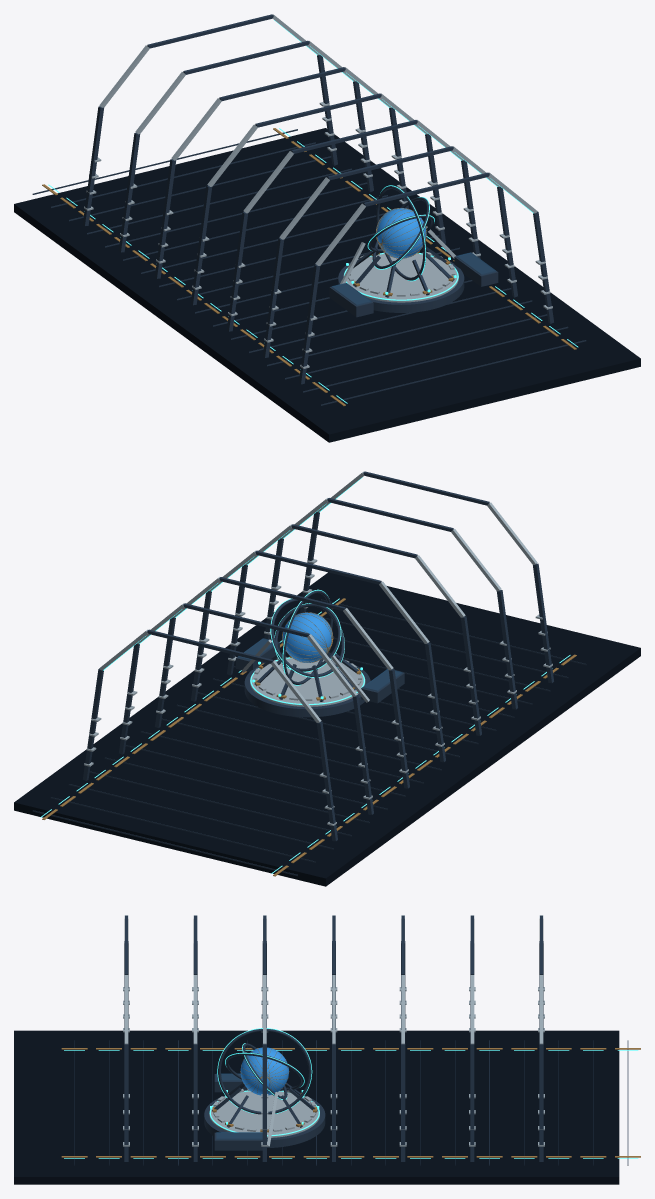
Rendered from atrium-desktop.glb.
3 views of the same model, one above another, from view 1: azimuth 30°, elevation 25°; view 2: azimuth 150°, elevation 25°; view 3: azimuth 270°, elevation 25° (orthographic). The views are drawn at different scales.
Parts seen in each view (by area): view 1: object 1, architectural-heart, celestial-heart, object 87, object 177, object 132, object 117, object 147, object 162, object 102, object 94, object 109 (+8 smaller); view 2: object 1, architectural-heart, celestial-heart, object 177, object 132, object 87, object 162, object 102, object 117, object 147, object 184, object 169 (+10 smaller); view 3: object 1, architectural-heart, celestial-heart, object 94, object 184, object 109, object 124, object 154, object 169, object 139.
Part boxes in pixels (bbox=[...]): object 1: bbox=[14, 128, 640, 442]; architectural-heart: bbox=[329, 185, 498, 317]; celestial-heart: bbox=[376, 208, 426, 258]; object 87: bbox=[299, 264, 320, 384]; object 177: bbox=[82, 106, 103, 225]; object 132: bbox=[191, 185, 212, 305]; object 117: bbox=[227, 212, 248, 331]; object 147: bbox=[155, 159, 176, 278]; object 162: bbox=[119, 132, 140, 252]; object 102: bbox=[263, 238, 284, 357]; object 94: bbox=[533, 211, 553, 323]; object 109: bbox=[497, 186, 517, 297]; object 1: bbox=[14, 572, 640, 886]; architectural-heart: bbox=[236, 589, 404, 717]; celestial-heart: bbox=[282, 612, 332, 662]; object 177: bbox=[316, 721, 337, 841]; object 132: bbox=[424, 642, 445, 762]; object 87: bbox=[533, 563, 553, 683]; object 162: bbox=[352, 695, 373, 814]; object 102: bbox=[496, 590, 517, 709]; object 117: bbox=[461, 616, 481, 735]; object 147: bbox=[388, 669, 409, 788]; object 184: bbox=[83, 668, 103, 780]; object 169: bbox=[119, 644, 139, 754]; object 1: bbox=[14, 1030, 619, 1184]; architectural-heart: bbox=[204, 1028, 325, 1150]; celestial-heart: bbox=[240, 1047, 288, 1095]; object 94: bbox=[124, 1044, 128, 1161]; object 184: bbox=[539, 1044, 543, 1161]; object 109: bbox=[193, 1044, 197, 1161]; object 124: bbox=[262, 1044, 266, 1161]; object 154: bbox=[401, 1044, 405, 1161]; object 169: bbox=[470, 1044, 474, 1161]; object 139: bbox=[332, 1044, 335, 1161].
Bounding box in the file's own units: 20 × 10.64 × 36.25.
